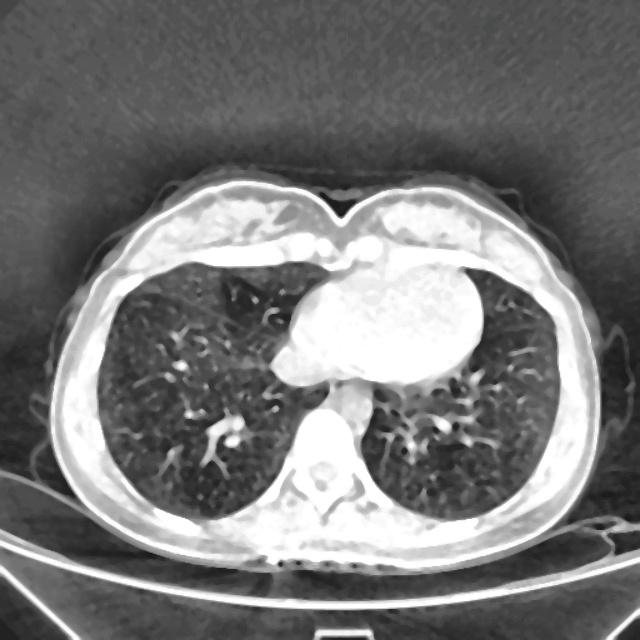covid: (45, 163, 605, 575)
